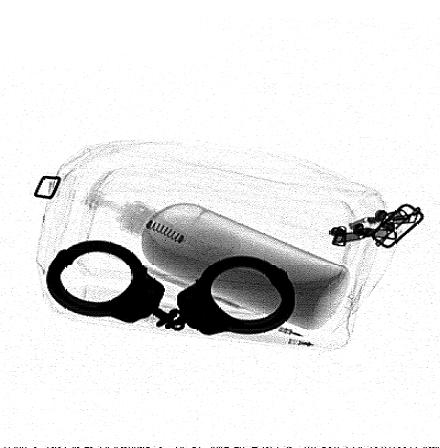HandCuffs: (46, 241, 295, 336)
